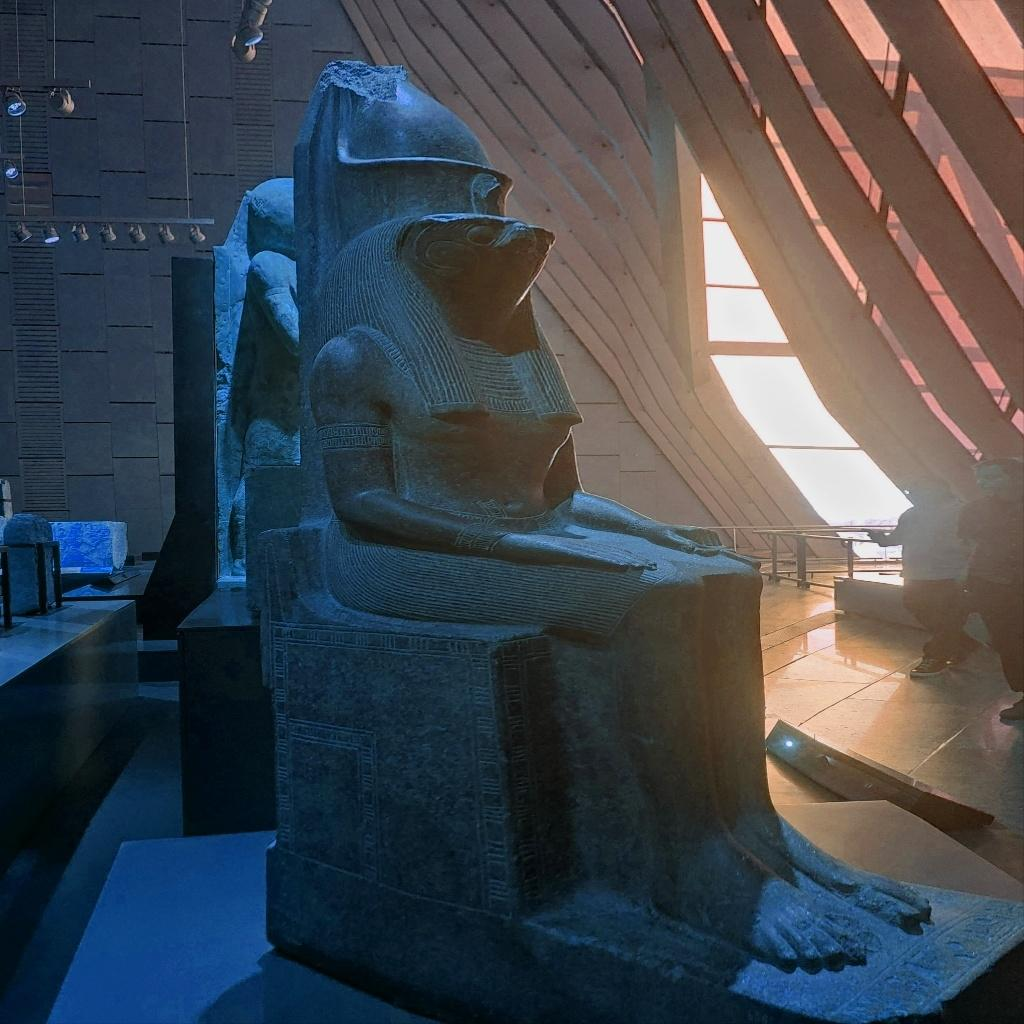Statue of God Ra-Horakhty: (282, 60, 836, 1015)
